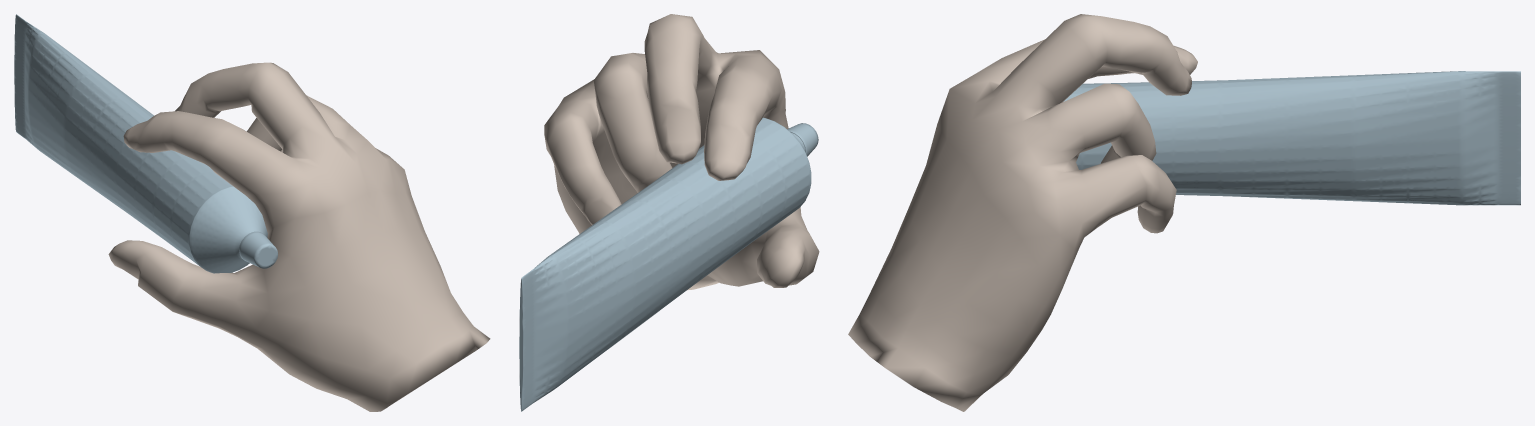
The model's file is ours_2.glb.
3 views of the same model, side by side, from view 1: azimuth 30°, elevation 25°; view 2: azimuth 150°, elevation 25°; view 3: azimuth 270°, elevation 25° (orthographic). The views are drawn at different scales.
Size of the model in its own units: 0.1306 by 0.1359 by 0.2397.
